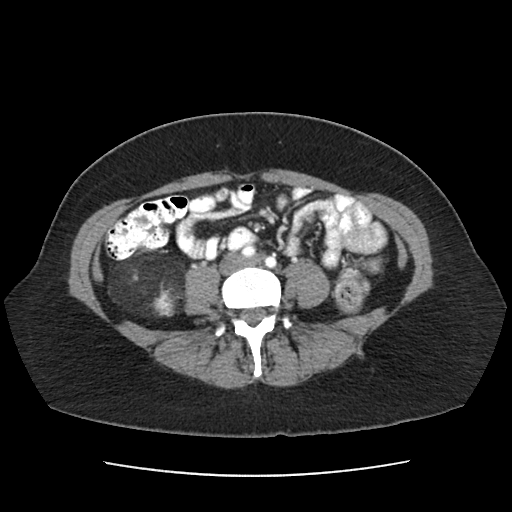Lesion: (101, 256, 188, 321)
